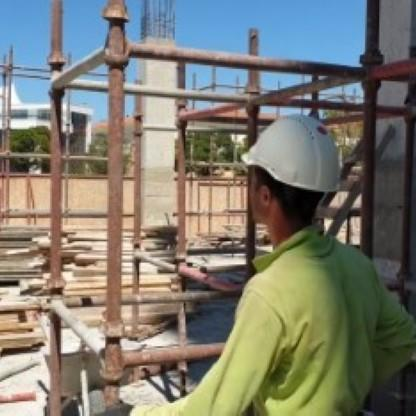helmet: (228, 124, 352, 226)
